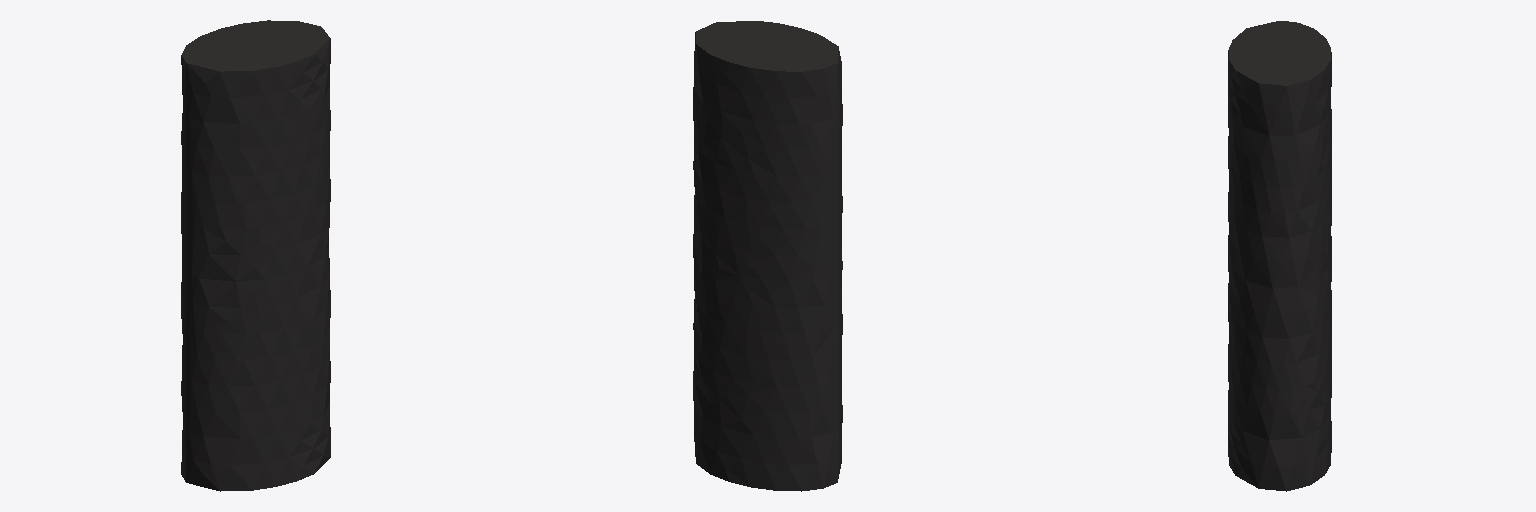
robot.urdf — Small_Short_Oval_Yellow:
<?xml version="1.0"?>
<robot name="Small_Short_Oval_Yellow">
    <link name="Small_Short_Oval_Yellow">
        <visual>
            <geometry>
                <mesh filename="../mesh/factory_insertion/Small_Short_Oval_Yellow.obj" scale="0.001 0.001 0.001"/>
            </geometry>
            <material name="Yellow">
              <color rgba="0.22 0.21 0.21 0.0"/>
            </material>
        </visual>
        <collision>
            <geometry>
                <mesh filename="../mesh/factory_insertion/Small_Short_Oval_Yellow.obj" scale="0.001 0.001 0.001"/>
            </geometry>
            <sdf resolution="512"/>
        </collision>
    </link>
</robot>

--- What the picture shows (computed from the rendered views, not written in the file) ---
Views: 3 orthographic renders of the robot side by side, from view 1: azimuth 30°, elevation 25°; view 2: azimuth 150°, elevation 25°; view 3: azimuth 270°, elevation 25°.
Robot: Small_Short_Oval_Yellow — 1 links, 0 joints (none); root link Small_Short_Oval_Yellow; default pose: every joint at zero.
Visible links, largest first — view 1: Small_Short_Oval_Yellow; view 2: Small_Short_Oval_Yellow; view 3: Small_Short_Oval_Yellow.
Link boxes in pixels (x1,y1,x2,y2): Small_Short_Oval_Yellow: (181,20,330,491); Small_Short_Oval_Yellow: (693,21,842,491); Small_Short_Oval_Yellow: (1228,21,1331,491).
Size in the robot's own frame: 0.0347 by 0.0232 by 0.1 metres.
1 mesh visuals loaded from 1 distinct referenced files (1 OBJ).
